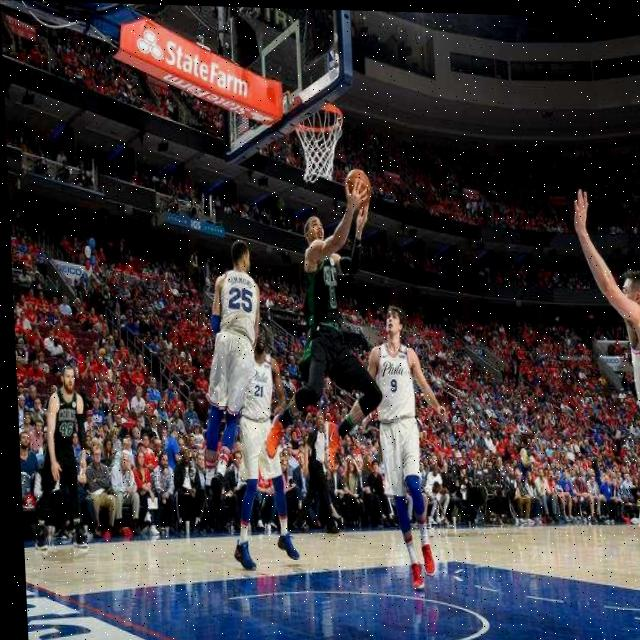basketball: (344, 165, 373, 212)
hoop: (289, 102, 346, 185)
